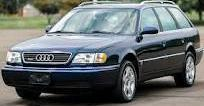front_view: (4, 43, 123, 91)
headlight: (69, 49, 109, 67)
side_glass: (139, 4, 193, 32)
